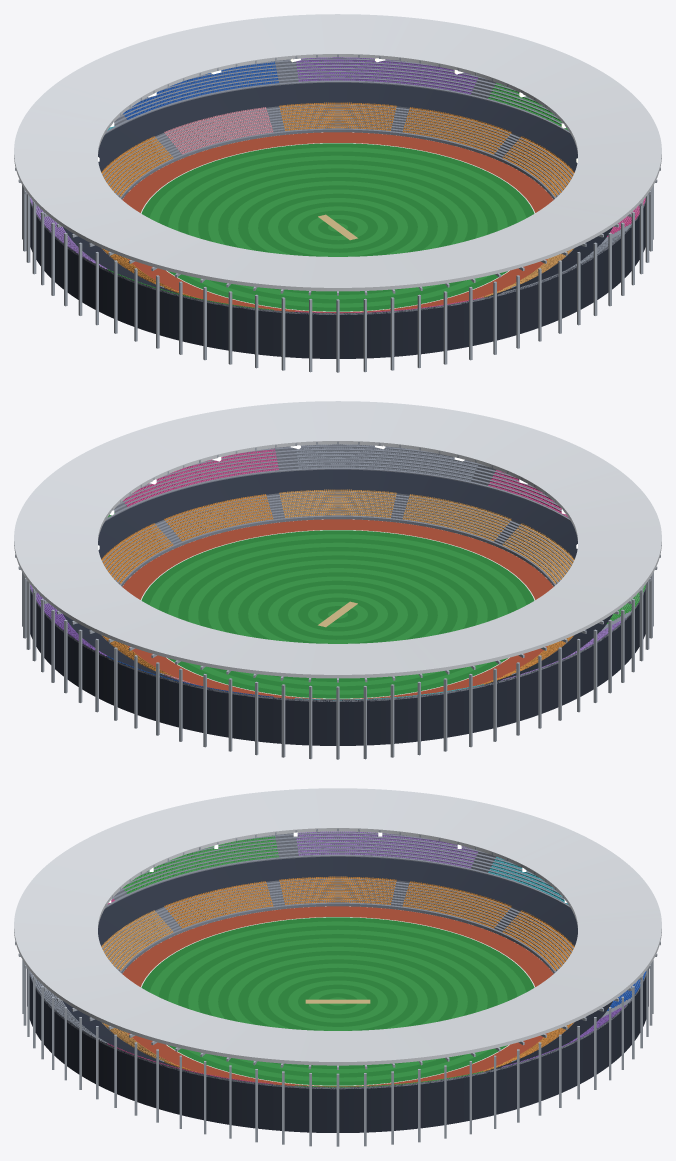
File: narendra-modi.glb
The picture shows the model from 3 angles, top to bottom: view 1: azimuth 30°, elevation 25°; view 2: azimuth 150°, elevation 25°; view 3: azimuth 270°, elevation 25°; orthographic projection.
Visible parts, largest first — view 1: Roof, Walls, Ground, GroundStripes, RoofBeams, Terrace_inner, Terrace_outer, Surround, Chairs_Block P, Chairs_Block E, Chairs_North Corporate Box, Chairs_Block F (+6 smaller); view 2: Roof, Walls, Ground, GroundStripes, RoofBeams, Terrace_inner, Terrace_outer, Surround, Chairs_Bay Gallery, Chairs_South Premium East, Chairs_Block H, Chairs_South Premium Centre (+6 smaller); view 3: Roof, Walls, Ground, GroundStripes, Terrace_inner, Terrace_outer, Surround, RoofBeams, Chairs_Block L, Chairs_Block B, Chairs_Block A, Chairs_Block C (+6 smaller).
Part boxes in pixels (bbox=[...]): Roof: bbox=[14, 14, 661, 291]; Walls: bbox=[30, 82, 645, 358]; Ground: bbox=[141, 143, 534, 311]; GroundStripes: bbox=[150, 147, 526, 307]; RoofBeams: bbox=[14, 54, 661, 372]; Terrace_inner: bbox=[101, 103, 574, 289]; Terrace_outer: bbox=[30, 57, 645, 314]; Surround: bbox=[122, 132, 553, 312]; Chairs_Block P: bbox=[296, 57, 477, 94]; Chairs_Block E: bbox=[279, 102, 396, 130]; Chairs_North Corporate Box: bbox=[164, 107, 273, 154]; Chairs_Block F: bbox=[402, 107, 511, 154]; Roof: bbox=[14, 401, 661, 678]; Walls: bbox=[30, 469, 645, 745]; Ground: bbox=[141, 530, 534, 698]; GroundStripes: bbox=[149, 534, 525, 694]; RoofBeams: bbox=[14, 441, 661, 759]; Terrace_inner: bbox=[101, 490, 574, 676]; Terrace_outer: bbox=[30, 444, 645, 701]; Surround: bbox=[122, 519, 553, 699]; Chairs_Bay Gallery: bbox=[296, 444, 477, 481]; Chairs_South Premium East: bbox=[279, 489, 396, 517]; Chairs_Block H: bbox=[164, 494, 273, 541]; Chairs_South Premium Centre: bbox=[402, 494, 511, 541]; Roof: bbox=[14, 788, 661, 1065]; Walls: bbox=[27, 856, 648, 1132]; Ground: bbox=[141, 917, 534, 1085]; GroundStripes: bbox=[149, 921, 526, 1081]; Terrace_inner: bbox=[102, 877, 573, 1061]; Terrace_outer: bbox=[29, 831, 646, 1089]; Surround: bbox=[122, 906, 553, 1086]; RoofBeams: bbox=[14, 828, 661, 1146]; Chairs_Block L: bbox=[296, 831, 477, 868]; Chairs_Block B: bbox=[279, 876, 396, 904]; Chairs_Block A: bbox=[164, 881, 273, 928]; Chairs_Block C: bbox=[402, 881, 511, 928].
Size of the model in its own units: 201 by 30.2 by 201.
